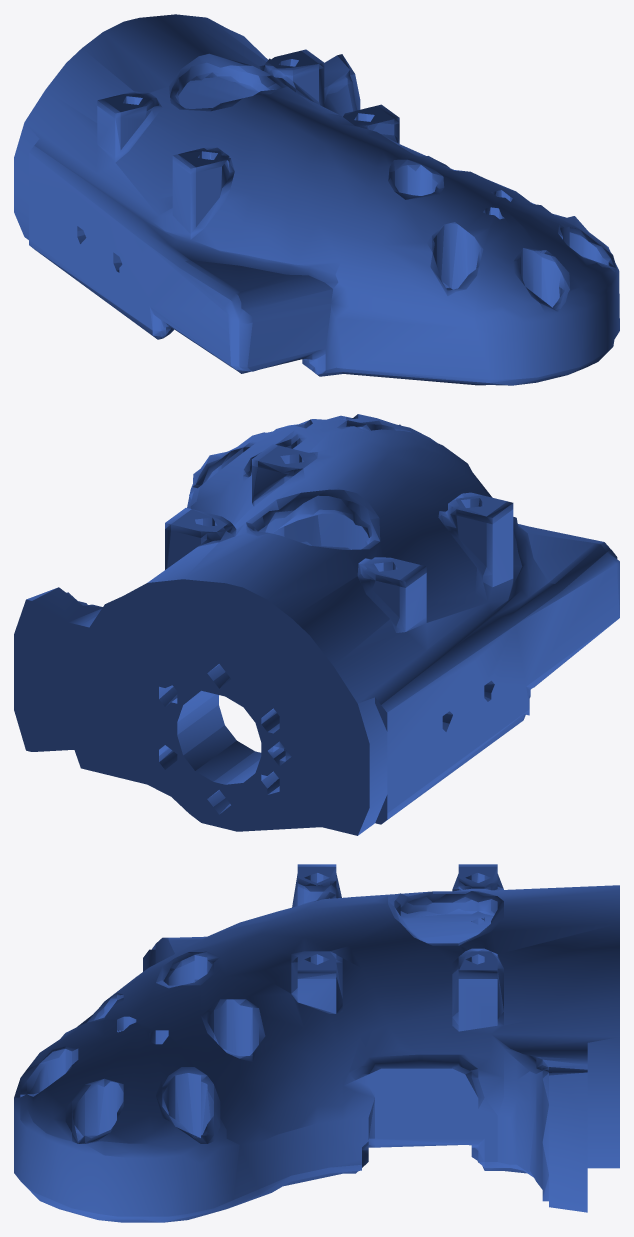
Rendered from left_elbow_pitch.obj.
3 renders of one model, top to bottom at view 1: azimuth 30°, elevation 25°; view 2: azimuth 150°, elevation 25°; view 3: azimuth 270°, elevation 25°, orthographic. The views are drawn at different scales.
Visible parts, largest first — view 1: N16_23_P54_01_Link_Left_Elbow; view 2: N16_23_P54_01_Link_Left_Elbow; view 3: N16_23_P54_01_Link_Left_Elbow.
Boxes of the visible parts, x1,y1,x2,y2 form: N16_23_P54_01_Link_Left_Elbow: (14,14,619,385); N16_23_P54_01_Link_Left_Elbow: (14,414,619,835); N16_23_P54_01_Link_Left_Elbow: (14,864,619,1222).
Size of the model in its own units: 0.07 by 0.039 by 0.094.
